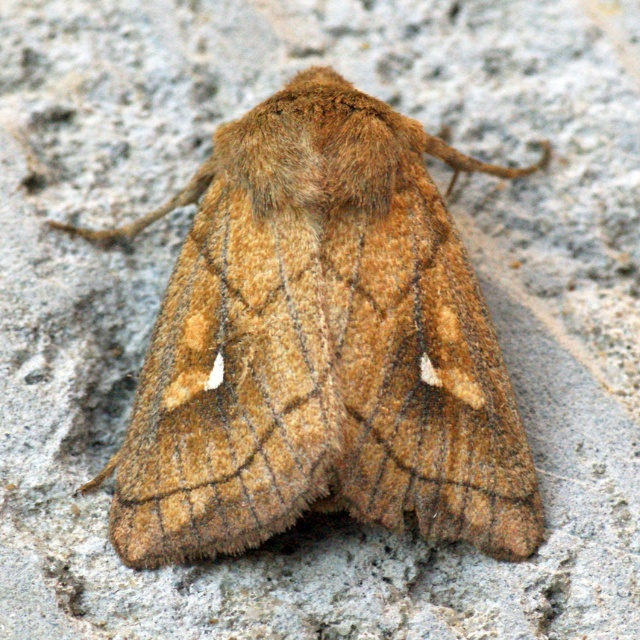Moths and butterflies: (61, 66, 548, 571)
